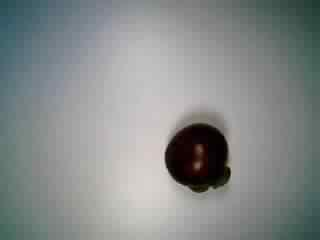mangosteen: (160, 117, 235, 194)
